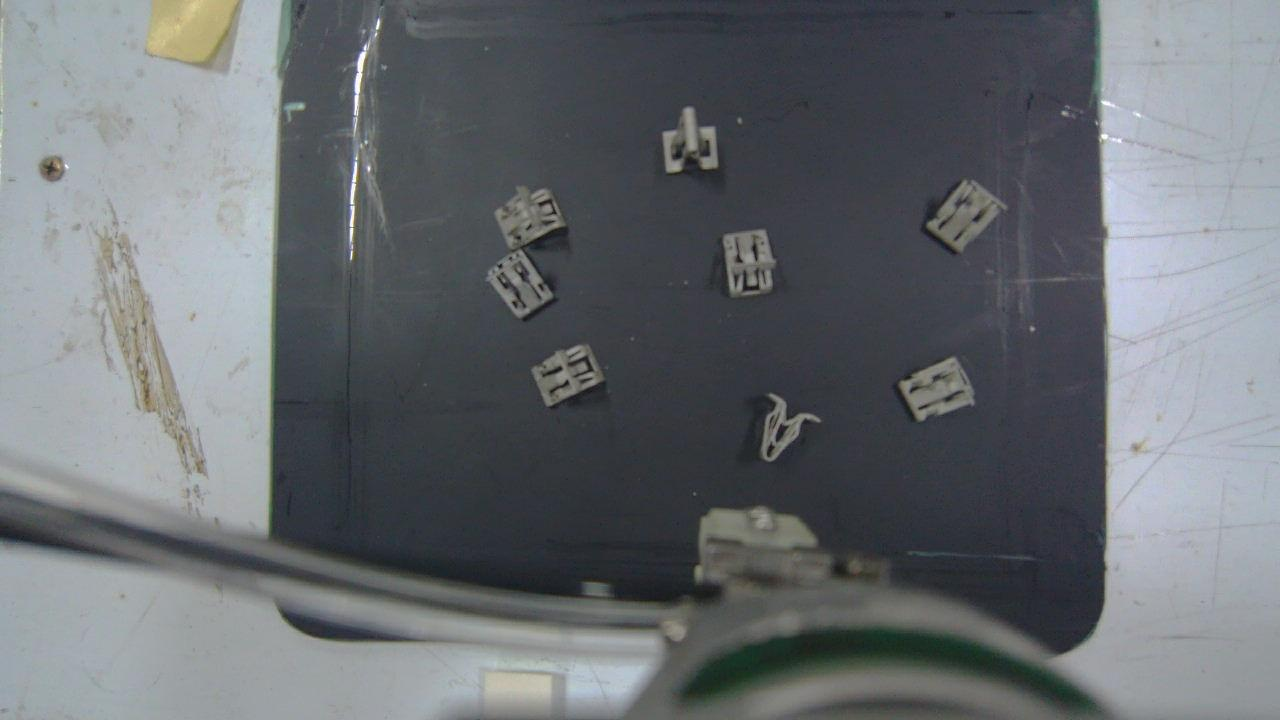ng: (925, 178, 1008, 255), (897, 355, 975, 424), (486, 246, 556, 321), (493, 186, 567, 252), (531, 342, 606, 407), (759, 393, 821, 462), (723, 229, 777, 298)
pass: (663, 106, 718, 173)
